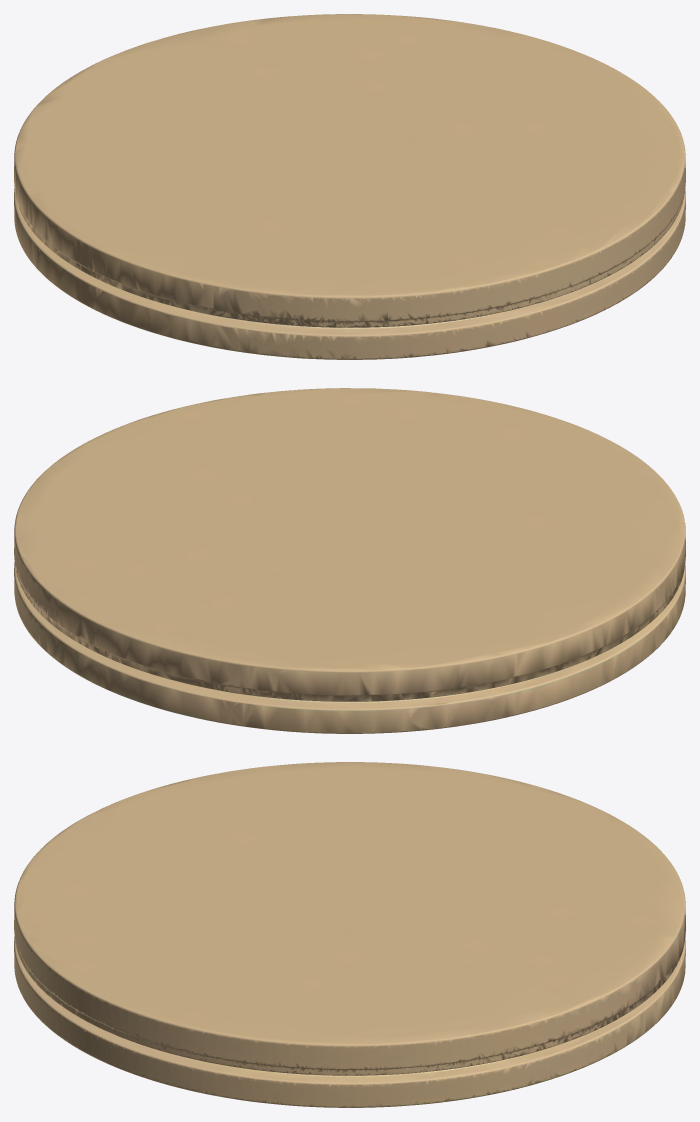
File: base-optimized-safe.glb
The picture shows the model from 3 angles, top to bottom: view 1: azimuth 30°, elevation 25°; view 2: azimuth 150°, elevation 25°; view 3: azimuth 270°, elevation 25°; orthographic projection.
Parts seen in each view (by area): view 1: mesh_node; view 2: mesh_node; view 3: mesh_node.
Part boxes in pixels (box(x1,y1,x2,y2)): mesh_node: box(14, 14, 685, 359); mesh_node: box(14, 388, 685, 733); mesh_node: box(14, 762, 685, 1107).
Bounding box in the file's own units: 1.9 × 0.1998 × 1.9.
Materials: 1 (1 with a texture image).
